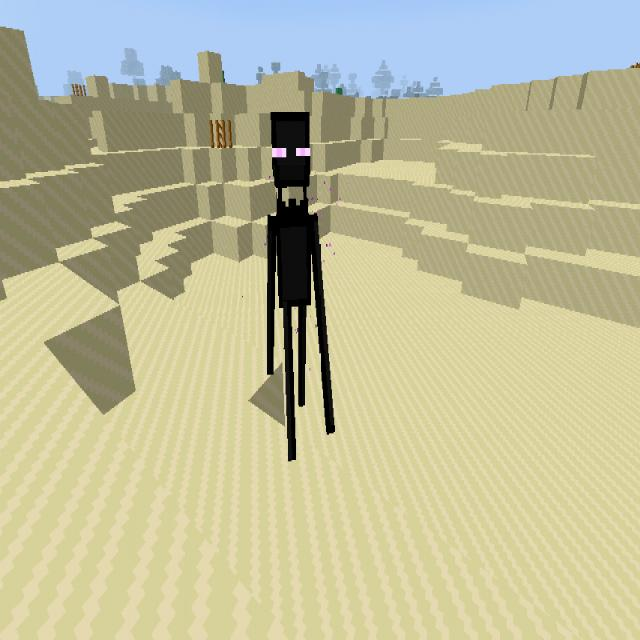Enderman: (261, 104, 337, 476)
